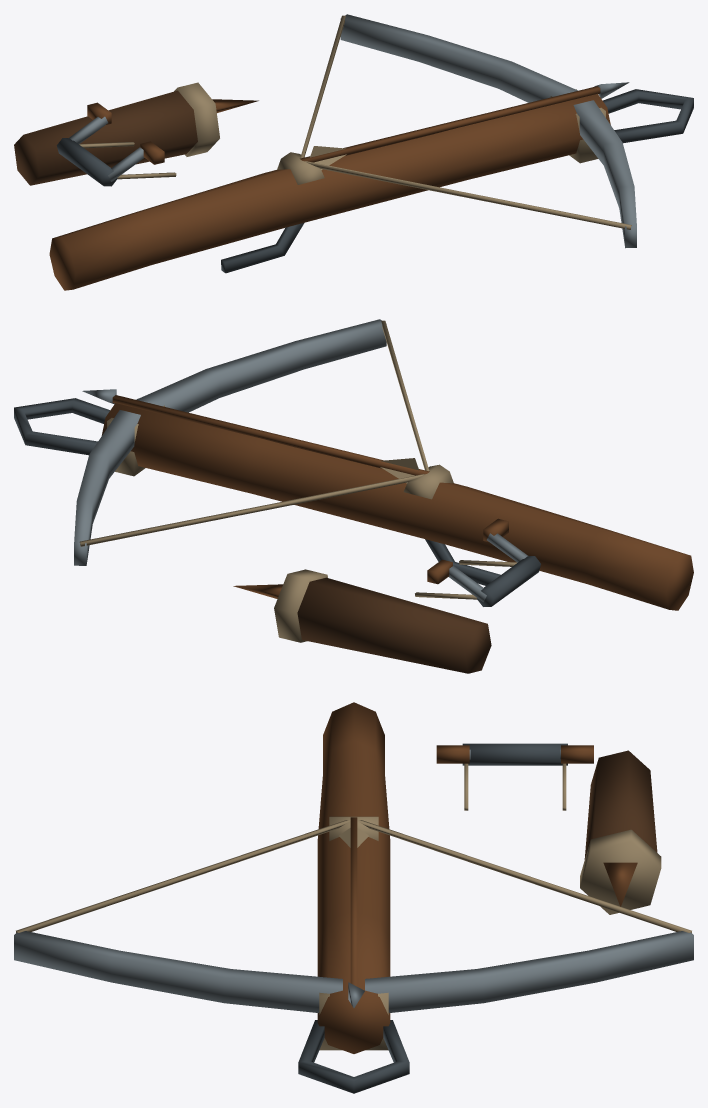
The model's file is crossbow_lod0.glb.
3 renders of one model, top to bottom at view 1: azimuth 30°, elevation 25°; view 2: azimuth 150°, elevation 25°; view 3: azimuth 270°, elevation 25°, orthographic. The views are drawn at different scales.
Parts seen in each view (by area): view 1: CrossbowMesh; view 2: CrossbowMesh; view 3: CrossbowMesh.
Boxes of the visible parts, x1,y1,x2,y2 form: CrossbowMesh: [14, 14, 693, 290]; CrossbowMesh: [14, 319, 693, 673]; CrossbowMesh: [14, 702, 693, 1093].
Bounding box in the file's own units: 1.22 × 0.1919 × 0.9691.
